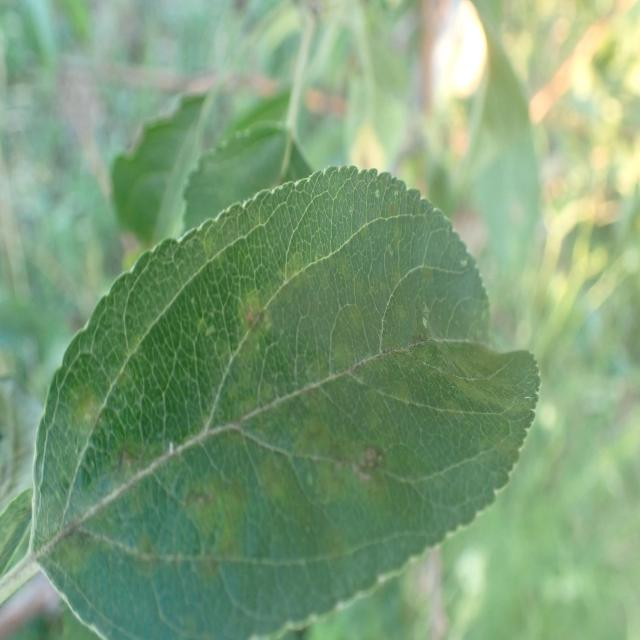scab: (30, 264, 531, 616)
